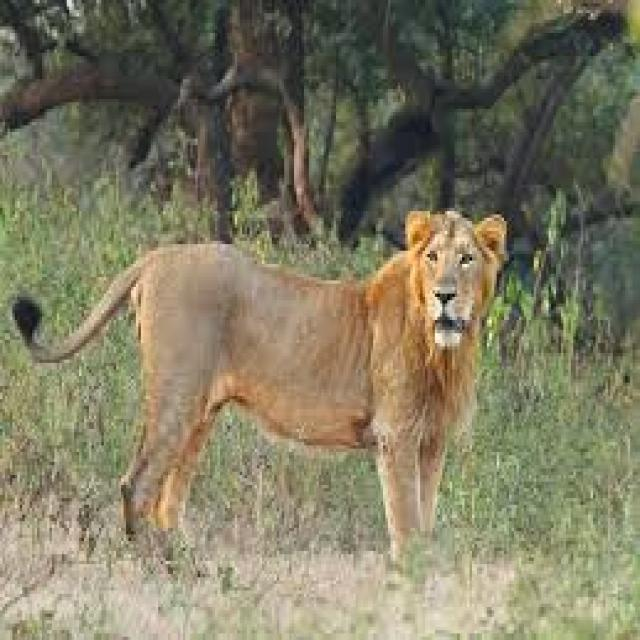Lion: (15, 209, 505, 555)
